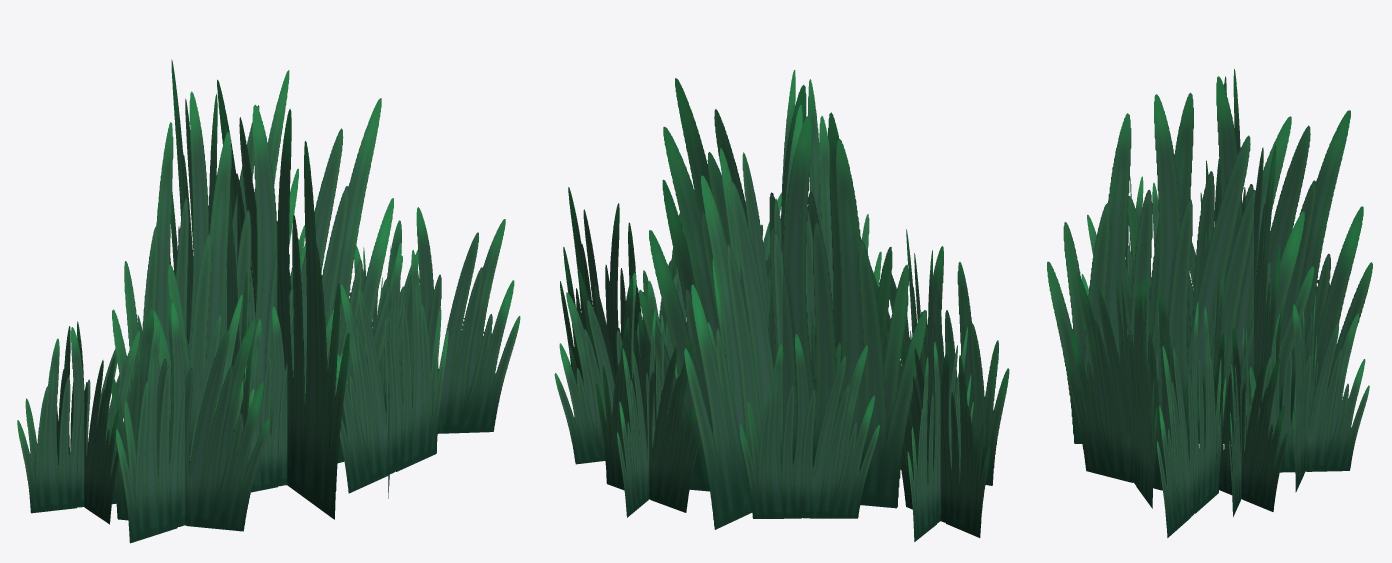
Rendered from Grass.fbx.
3 views of the same model, side by side, from view 1: azimuth 30°, elevation 25°; view 2: azimuth 150°, elevation 25°; view 3: azimuth 270°, elevation 25° (orthographic). The views are drawn at different scales.
Parts seen in each view (by area): view 1: Plane.025; view 2: Plane.025; view 3: Plane.025.
Part boxes in pixels (box(x1,y1,x2,y2)): Plane.025: box(17, 59, 520, 543); Plane.025: box(554, 70, 1009, 541); Plane.025: box(1047, 69, 1372, 537).
Bounding box in the file's own units: 98.53 × 78.1 × 66.39.
Materials: 1 (1 with a texture image).
